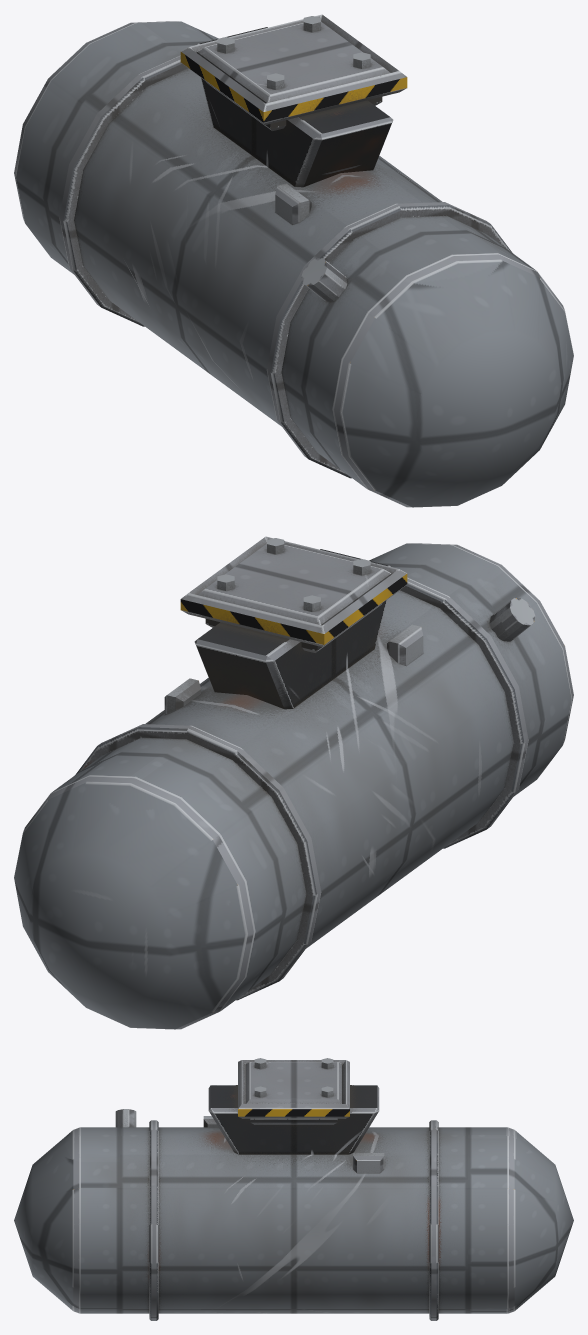
The model's file is tanque_combustible_t1.fbx.
3 renders of one model, top to bottom at view 1: azimuth 30°, elevation 25°; view 2: azimuth 150°, elevation 25°; view 3: azimuth 270°, elevation 25°, orthographic. The views are drawn at different scales.
Visible parts, largest first — view 1: tanque_combustible_t1; view 2: tanque_combustible_t1; view 3: tanque_combustible_t1.
Boxes of the visible parts, <box> form: tanque_combustible_t1: <box>14,14,573,507</box>; tanque_combustible_t1: <box>14,536,573,1029</box>; tanque_combustible_t1: <box>14,1058,573,1320</box>.
Bounding box in the file's own units: 1.62 × 2.1 × 4.5.
